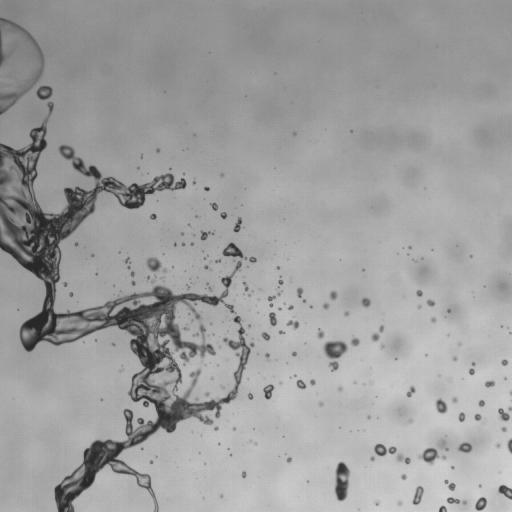droplet: (322, 340, 347, 371), (418, 447, 446, 465), (146, 257, 168, 273), (36, 86, 52, 99), (497, 485, 511, 499), (498, 406, 511, 421), (435, 398, 447, 413), (263, 384, 274, 399), (475, 497, 486, 511), (457, 442, 472, 452), (200, 231, 214, 240), (444, 480, 455, 490), (287, 320, 299, 329), (269, 312, 277, 325), (361, 297, 371, 307), (296, 379, 306, 389), (406, 386, 415, 397), (350, 336, 359, 346), (261, 332, 271, 340), (329, 291, 337, 300), (296, 287, 303, 297), (317, 328, 324, 338), (484, 380, 494, 387), (458, 412, 465, 422), (210, 202, 218, 210), (426, 299, 435, 306), (438, 505, 447, 511), (322, 302, 329, 309), (474, 413, 481, 420), (220, 212, 227, 218), (247, 392, 253, 399), (150, 213, 156, 219), (204, 264, 210, 270), (416, 290, 422, 296), (478, 400, 484, 406), (278, 278, 283, 285), (501, 360, 508, 365), (452, 396, 457, 403), (215, 258, 221, 263), (430, 317, 436, 322), (310, 379, 315, 385), (265, 353, 269, 360), (150, 278, 155, 283), (207, 286, 212, 291), (344, 311, 349, 316), (183, 325, 188, 330), (452, 356, 457, 361), (286, 457, 291, 462), (401, 474, 406, 479), (397, 500, 402, 505), (278, 330, 284, 334), (119, 366, 123, 372), (242, 471, 246, 477), (204, 187, 209, 191), (288, 305, 293, 309), (292, 351, 296, 356), (338, 386, 342, 391), (501, 427, 506, 431), (495, 443, 500, 447), (370, 456, 374, 461), (374, 501, 379, 505), (130, 272, 134, 276), (131, 281, 135, 285), (63, 282, 67, 286), (69, 292, 73, 296), (205, 392, 209, 396), (214, 426, 218, 430), (318, 402, 322, 405), (509, 390, 511, 395), (156, 149, 159, 152), (220, 174, 223, 177), (192, 181, 195, 184), (181, 243, 184, 246), (278, 307, 281, 310), (409, 419, 412, 422), (191, 242, 193, 245), (408, 246, 411, 248), (161, 277, 163, 280), (187, 285, 189, 288), (303, 299, 305, 302), (310, 305, 312, 308), (418, 305, 420, 308), (248, 325, 251, 327), (381, 345, 383, 348), (367, 416, 370, 418), (233, 427, 235, 430), (150, 460, 152, 463), (220, 495, 223, 497), (188, 224, 190, 226), (75, 243, 77, 245), (92, 254, 94, 256), (470, 255, 472, 257), (277, 266, 279, 268), (448, 310, 450, 312), (112, 343, 114, 345), (459, 343, 461, 345), (294, 374, 296, 376), (279, 382, 281, 384)
ligament: (0, 101, 256, 511), (0, 17, 44, 114), (374, 443, 410, 463), (334, 461, 350, 501), (268, 288, 281, 307), (412, 486, 423, 505), (371, 325, 383, 341), (446, 497, 466, 504), (233, 217, 242, 232), (469, 362, 475, 374), (124, 257, 130, 268), (507, 438, 511, 453), (439, 445, 448, 451), (243, 281, 248, 291)
